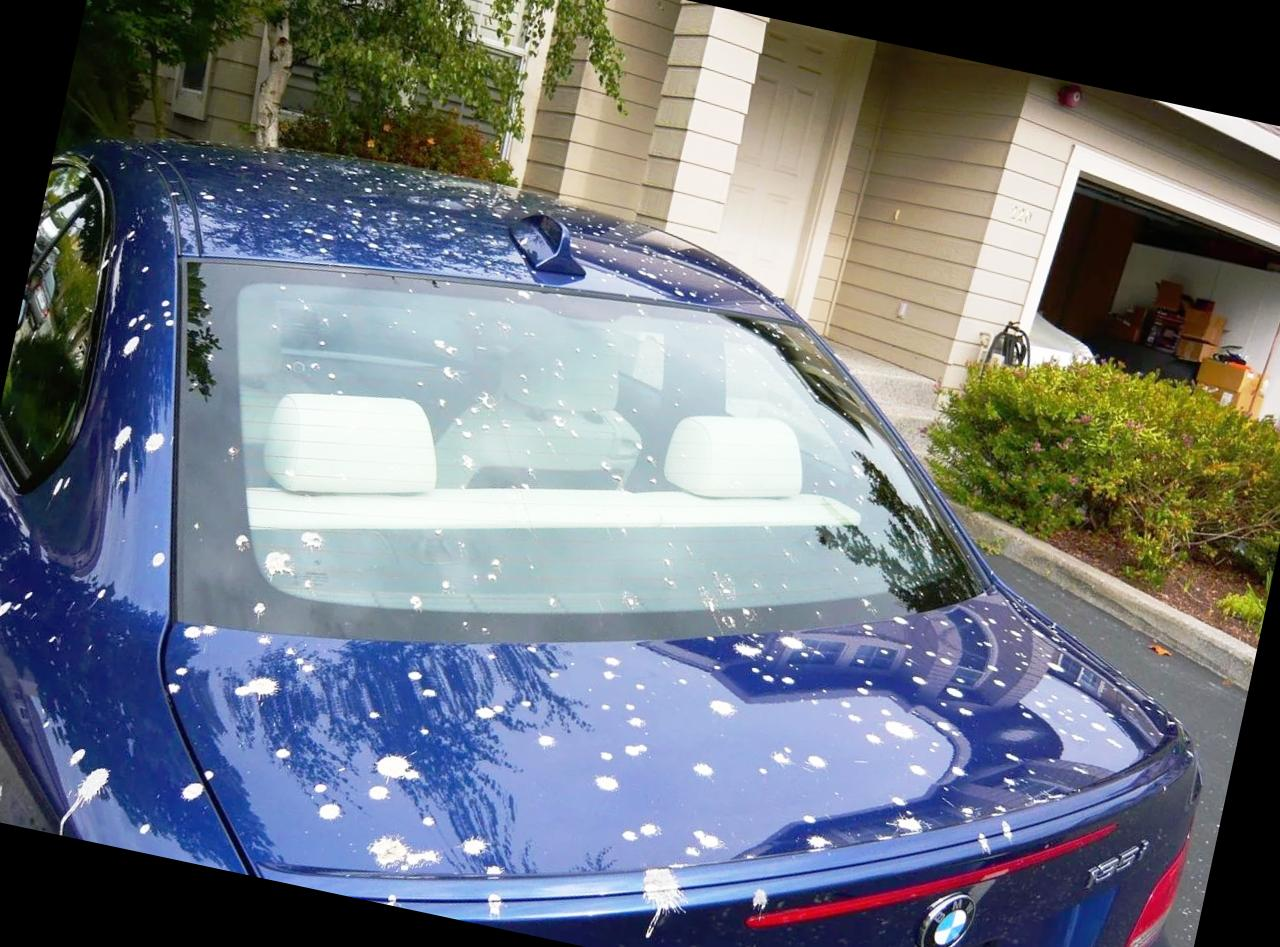Bird Poop: (60, 768, 109, 833), (644, 869, 685, 937), (368, 835, 438, 869), (705, 596, 734, 634), (377, 754, 418, 776), (236, 676, 277, 695), (733, 636, 765, 657), (264, 550, 292, 573), (896, 811, 923, 830), (184, 624, 217, 639), (181, 780, 204, 800), (886, 721, 913, 738), (693, 831, 720, 847), (113, 425, 131, 449), (475, 705, 506, 718), (751, 887, 767, 912), (145, 431, 164, 452), (464, 836, 486, 854), (121, 335, 140, 355), (769, 746, 791, 763), (321, 801, 339, 819), (621, 591, 640, 608), (595, 776, 618, 790), (709, 700, 735, 712), (742, 606, 756, 628), (488, 892, 501, 915), (303, 531, 322, 546), (780, 636, 803, 647), (978, 832, 990, 853), (69, 748, 85, 763), (808, 835, 828, 847), (693, 763, 713, 775), (297, 658, 314, 672), (640, 822, 659, 834), (369, 786, 388, 797), (626, 744, 645, 755), (908, 763, 927, 774), (962, 806, 975, 821), (1002, 819, 1012, 838), (153, 551, 166, 565), (539, 733, 554, 745), (237, 533, 248, 549), (1007, 628, 1023, 639), (0, 601, 12, 615), (253, 601, 265, 615), (487, 864, 503, 874), (684, 845, 699, 855), (1049, 661, 1064, 671), (167, 682, 180, 693), (411, 592, 421, 606), (911, 674, 926, 683), (936, 720, 950, 729), (314, 782, 326, 792), (947, 687, 962, 695), (779, 675, 794, 683), (867, 733, 880, 742), (1007, 751, 1020, 760), (622, 830, 636, 838), (810, 758, 824, 766), (606, 655, 618, 664), (276, 748, 289, 756), (894, 615, 907, 623), (424, 815, 435, 824), (410, 670, 421, 679), (953, 765, 964, 774), (629, 717, 642, 724), (176, 666, 187, 674), (858, 686, 869, 694), (994, 677, 1005, 685), (940, 656, 952, 663), (605, 670, 615, 678), (856, 656, 866, 664), (422, 688, 435, 694), (964, 615, 975, 622), (420, 726, 428, 735), (635, 681, 644, 689), (959, 707, 973, 712), (926, 648, 936, 655), (894, 796, 904, 803), (758, 766, 768, 773), (881, 708, 891, 715), (799, 651, 809, 658), (804, 814, 815, 820), (879, 647, 888, 654), (601, 751, 611, 757), (851, 713, 861, 719), (260, 636, 270, 642), (764, 674, 772, 681), (841, 699, 849, 706), (521, 699, 530, 705), (370, 710, 379, 716), (988, 664, 997, 670), (527, 646, 537, 651), (626, 702, 634, 708), (551, 669, 557, 676)
